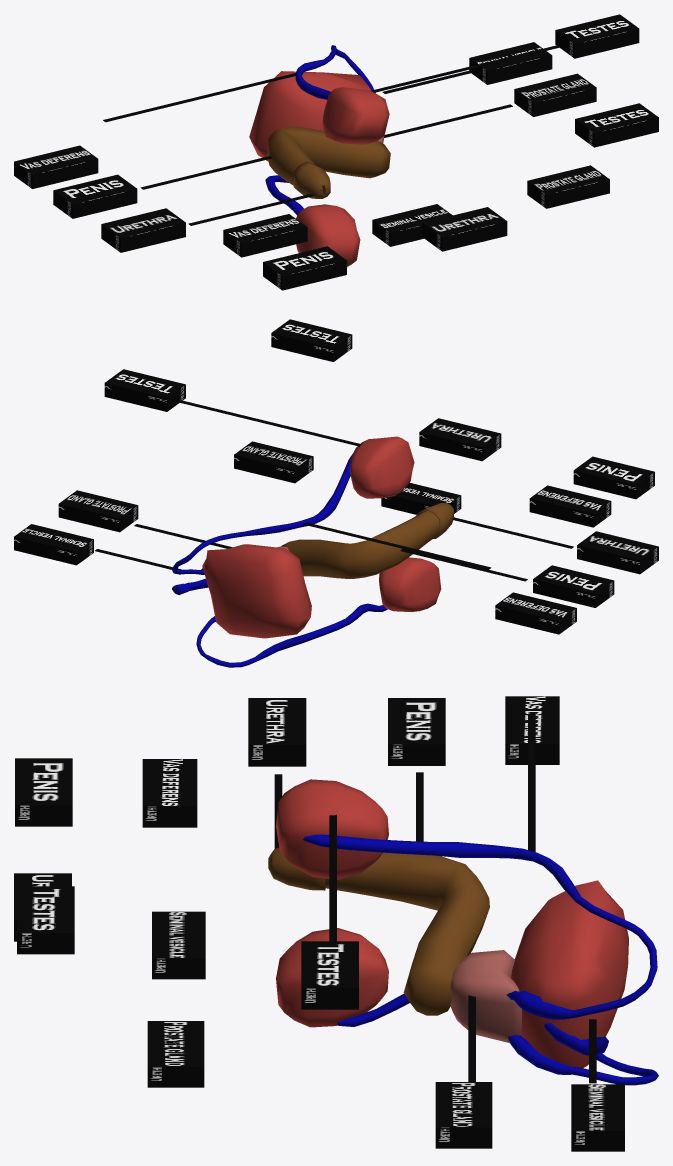
File: male_reproductive_parts.fbx
3 renders of one model, top to bottom at view 1: azimuth 30°, elevation 25°; view 2: azimuth 150°, elevation 25°; view 3: azimuth 270°, elevation 25°, orthographic. The views are drawn at different scales.
Visible parts, largest first — view 1: testis (×3), penis2, urethra (×2), penis1 (×2), vas_deferens (×2), prostale_gland (×2), ball, seminal_vescile (×2), line, testis1, polySurface1, vas_deference; view 2: ball, testis (×3), penis2, urethra (×2), penis1 (×2), vas_deferens (×2), prostale_gland (×2), seminal_vescile (×2), testis1, line, polySurface1, vas_deference; view 3: testis (×3), ball, penis2, penis1 (×2), prostale_gland (×2), seminal_vescile (×2), vas_deferens (×2), polySurface1, urethra (×2), prostate_galnd, testis1, line (+2 smaller).
Part boxes in pixels (x1,y1,x2,y2): testis (×3): (322, 14, 658, 147); penis2: (267, 126, 390, 198); urethra (×2): (101, 207, 507, 252); penis1 (×2): (53, 174, 346, 290); vas_deferens (×2): (14, 145, 307, 257); prostale_gland (×2): (514, 73, 609, 208); ball: (249, 71, 371, 161); seminal_vescile (×2): (372, 42, 552, 246); line: (103, 45, 559, 225); testis1: (296, 204, 360, 266); polySurface1: (295, 45, 375, 99); vas_deference: (265, 175, 303, 215); ball: (202, 544, 311, 638); testis (×3): (104, 319, 414, 498); penis2: (281, 503, 453, 578); urethra (×2): (419, 418, 658, 574); penis1 (×2): (533, 456, 654, 607); vas_deferens (×2): (495, 485, 611, 634); prostale_gland (×2): (58, 441, 313, 532); seminal_vescile (×2): (14, 483, 461, 565); testis1: (379, 557, 441, 611); line: (95, 400, 573, 581); polySurface1: (172, 454, 352, 574); vas_deference: (196, 603, 387, 667); testis (×3): (17, 779, 388, 1009); ball: (511, 880, 628, 1068); penis2: (268, 847, 489, 1015); penis1 (×2): (15, 698, 445, 826); prostale_gland (×2): (147, 1021, 492, 1148); seminal_vescile (×2): (152, 911, 624, 1151); vas_deferens (×2): (142, 696, 559, 827); polySurface1: (303, 834, 657, 1019); urethra (×2): (14, 698, 306, 941); prostate_galnd: (450, 950, 521, 1042); testis1: (276, 928, 388, 1027); line: (274, 713, 596, 1083).
Size of the model in its own units: 139 by 42 by 97.03.
Materials: 6 (1 with a texture image).
